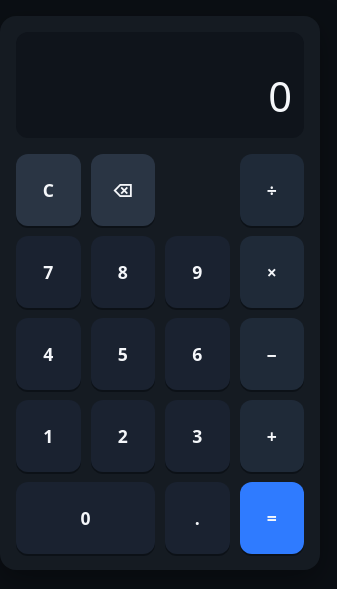
Test: Calculator UI › performs addition via buttons
The image size is (337, 589).
Click the button "1".
click(48, 436)  # box top-left (16, 400), bottom-right (80, 472)
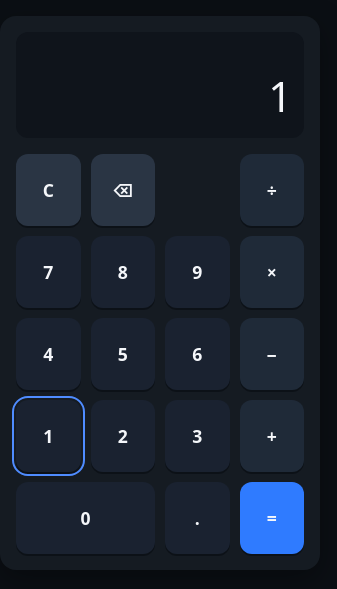
Click the button "2".
click(123, 436)  # box top-left (90, 400), bottom-right (155, 472)
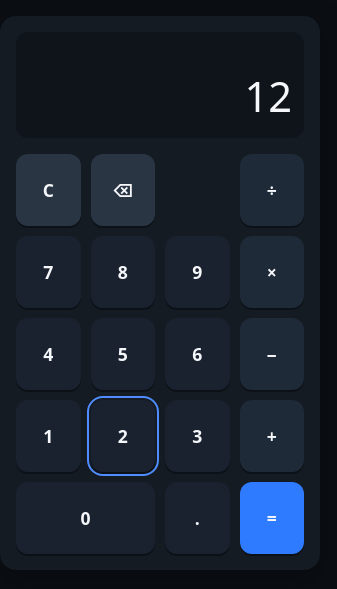
Click the button named "Plus".
click(272, 436)  # box top-left (240, 400), bottom-right (304, 472)
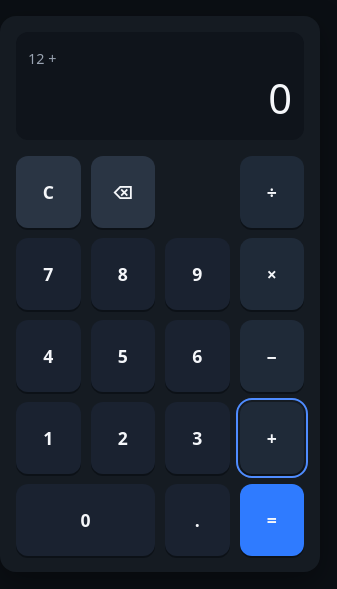
Click the button "7".
click(48, 274)  # box top-left (16, 238), bottom-right (80, 310)
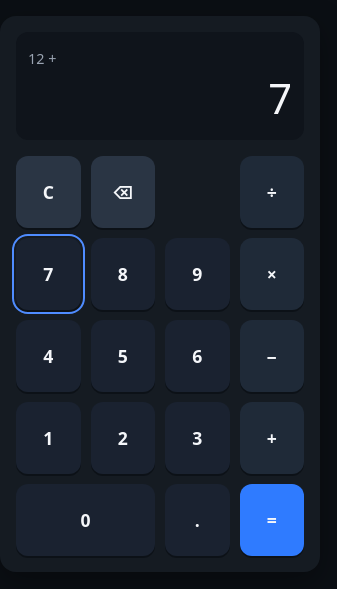
Click the button named "Equals".
click(272, 520)  # box top-left (240, 484), bottom-right (304, 556)
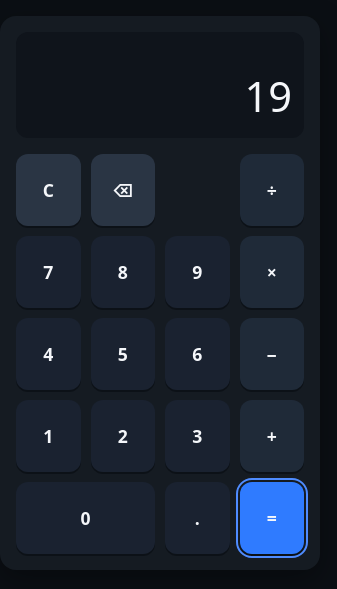
Expected: the text named "Current value" reads "19", top-left (244, 68), bottom-right (292, 124)
